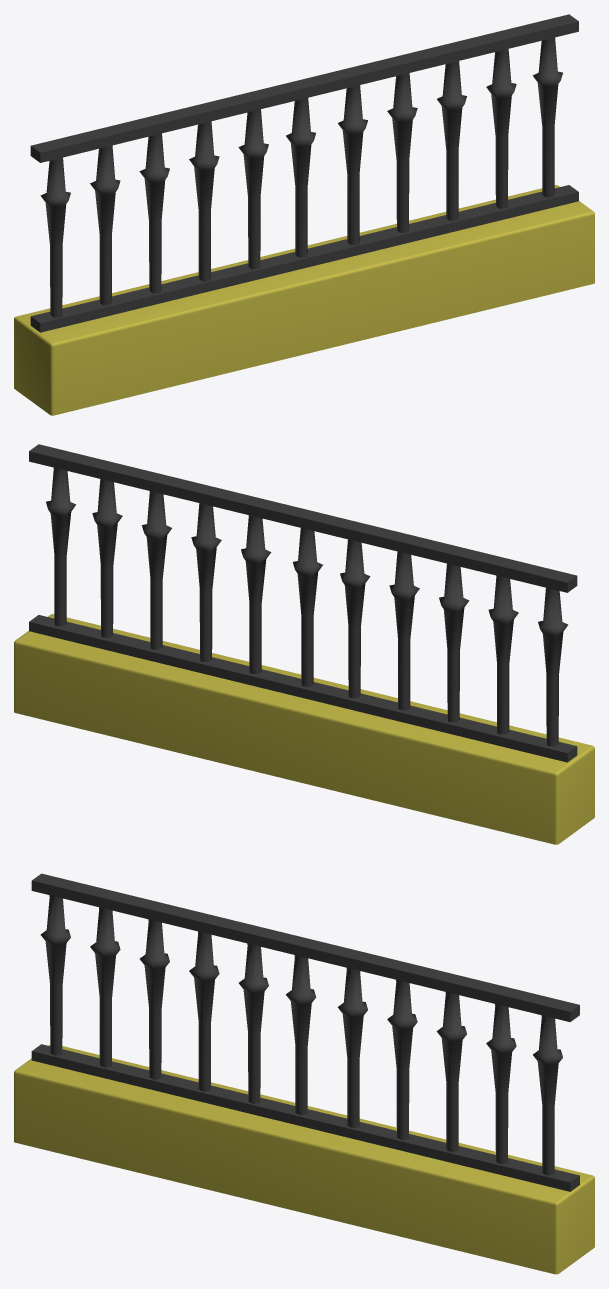
File: SM_wall_fence.fbx
The picture shows the model from 3 angles, top to bottom: view 1: azimuth 30°, elevation 25°; view 2: azimuth 150°, elevation 25°; view 3: azimuth 330°, elevation 25°; orthographic projection.
Visible parts, largest first — view 1: Object32342; view 2: Object32342; view 3: Object32342.
Boxes of the visible parts, <box> form: Object32342: <box>14,14,594,415</box>; Object32342: <box>14,444,594,844</box>; Object32342: <box>14,873,594,1274</box>.
Size of the model in its own units: 120 by 52.88 by 14.76.
